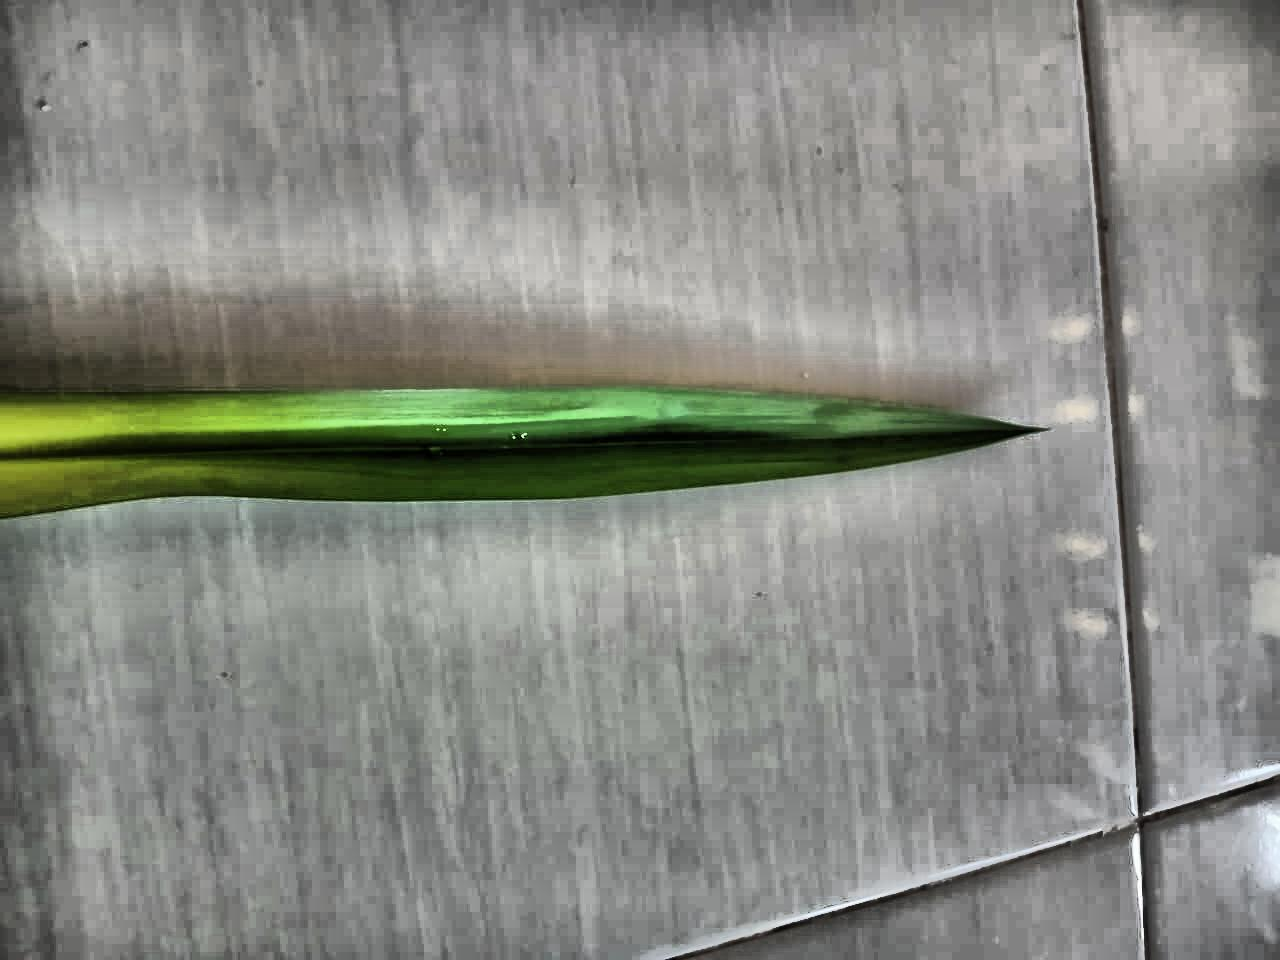daun pandan: (0, 388, 1035, 518)
